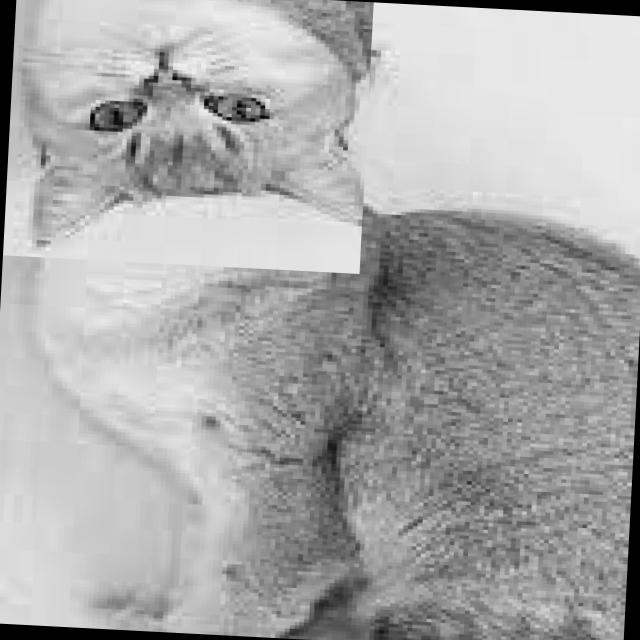british: (3, 0, 374, 274)
